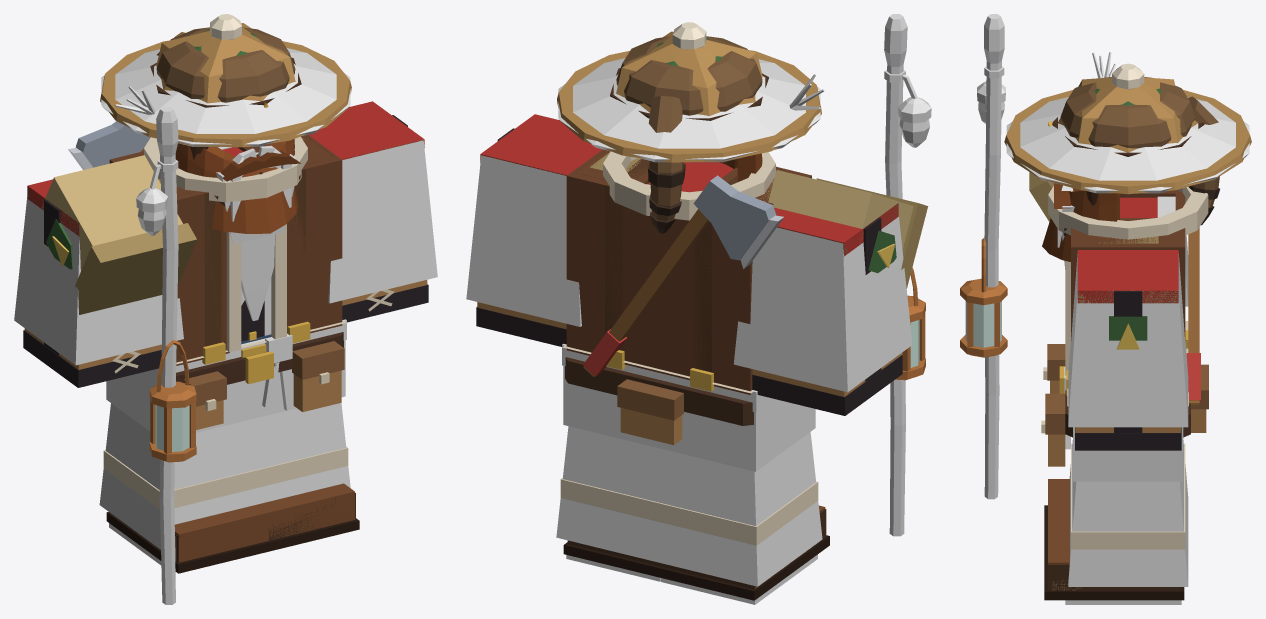
The model's file is w2_keepers.fbx.
The picture shows the model from 3 angles, left to right: view 1: azimuth 30°, elevation 25°; view 2: azimuth 150°, elevation 25°; view 3: azimuth 270°, elevation 25°; orthographic projection. The views are drawn at different scales.
Visible parts, largest first — view 1: SenseiMossGear.Trousers, TrapperGear.Vest, SenseiMossGear.SleeveL, SenseiMossGear.SleeveR, SenseiMossGear.Hat, RangerGear.Hat, TrapperGear.FurTrim, LumberjackGear.Boots, RangerGear.SleeveR, SenseiMossGear.Staff, RangerGear.CuffR, TrapperGear.Cap (+26 smaller); view 2: TrapperGear.Vest, SenseiMossGear.Trousers, SenseiMossGear.SleeveR, SenseiMossGear.SleeveL, SenseiMossGear.Hat, SenseiMossGear.Skirt, RangerGear.Hat, TrapperGear.Cap, SenseiMossGear.Staff, TrapperGear.BootFur, LumberjackGear.Suspenders, RangerGear.SleeveR (+26 smaller); view 3: SenseiMossGear.SleeveL, SenseiMossGear.Trousers, SenseiMossGear.Hat, RangerGear.Hat, SenseiMossGear.Staff, TrapperGear.Cap, LumberjackGear.SleeveL, TrapperGear.FurTrim, SenseiMossGear.Skirt, TrapperGear.Vest, TrapperGear.BootFur, RangerGear.LanternFrame (+18 smaller).
Boxes of the visible parts, <box> form: SenseiMossGear.Trousers: <box>99,403,350,549</box>; TrapperGear.Vest: <box>109,135,342,365</box>; SenseiMossGear.SleeveL: <box>328,140,437,303</box>; SenseiMossGear.SleeveR: <box>14,197,183,365</box>; SenseiMossGear.Hat: <box>101,48,350,146</box>; RangerGear.Hat: <box>100,23,351,147</box>; TrapperGear.FurTrim: <box>144,136,346,364</box>; LumberjackGear.Boots: <box>174,483,354,562</box>; RangerGear.SleeveR: <box>41,155,182,270</box>; SenseiMossGear.Staff: <box>156,106,178,604</box>; RangerGear.CuffR: <box>75,223,196,314</box>; TrapperGear.Cap: <box>156,27,295,102</box>; TrapperGear.Vest: <box>566,149,811,394</box>; SenseiMossGear.Trousers: <box>556,426,822,586</box>; SenseiMossGear.SleeveR: <box>733,216,912,392</box>; SenseiMossGear.SleeveL: <box>466,155,581,326</box>; SenseiMossGear.Hat: <box>558,58,820,162</box>; SenseiMossGear.Skirt: <box>563,366,815,471</box>; RangerGear.Hat: <box>557,31,821,162</box>; TrapperGear.Cap: <box>616,36,762,221</box>; SenseiMossGear.Staff: <box>884,14,907,536</box>; TrapperGear.BootFur: <box>560,478,818,545</box>; LumberjackGear.Suspenders: <box>605,159,737,372</box>; RangerGear.SleeveR: <box>768,170,913,249</box>; SenseiMossGear.SleeveL: <box>1068,253,1188,427</box>; SenseiMossGear.Trousers: <box>1068,440,1188,586</box>; SenseiMossGear.Hat: <box>1006,97,1249,193</box>; RangerGear.Hat: <box>1004,77,1251,194</box>; SenseiMossGear.Staff: <box>984,14,1004,499</box>; TrapperGear.Cap: <box>1060,77,1219,207</box>; LumberjackGear.SleeveL: <box>1077,250,1178,303</box>; TrapperGear.FurTrim: <box>1048,186,1208,406</box>; SenseiMossGear.Skirt: <box>1073,427,1183,481</box>; TrapperGear.Vest: <box>1071,190,1185,340</box>; TrapperGear.BootFur: <box>1071,443,1185,549</box>; RangerGear.LanternFrame: <box>960,238,1007,357</box>.
Bounding box in the file's own units: 4.28 × 5.74 × 3.07.
